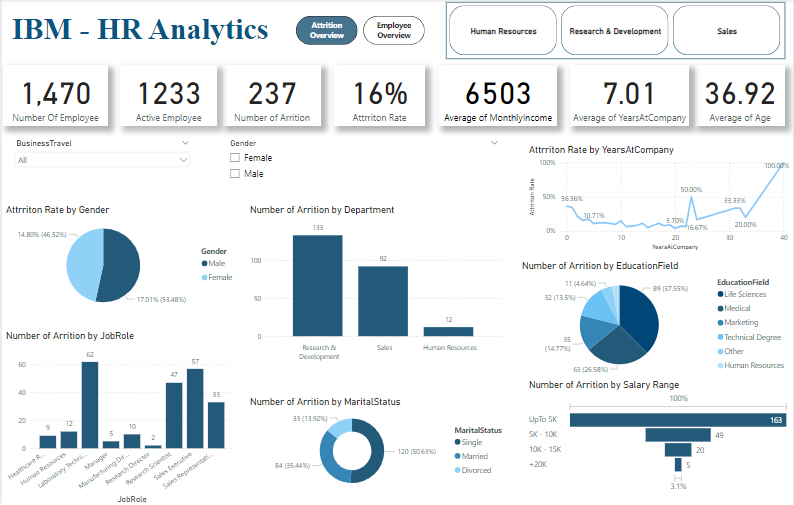

The page's visual inventory and layout, read from the dashboard file:
{"tool":"powerbi","page":{"name":"Attrition Overview","canvas":[1400,900],"ordinal":0},"visuals":[{"type":"card","fields":{"Values":["DAX Measures.Number Of Employee"]},"box":[1.8,116.9,186,108.1],"z":0},{"type":"card","fields":{"Values":["DAX Measures.Number of Arrition"]},"box":[391.5,116.9,173.6,108.1],"z":1000},{"type":"card","fields":{"Values":["Avg(Fact_EmployeeAttrition.Age)"]},"box":[1227.8,116.9,159.4,108.1],"z":2000},{"type":"card","title":"Average of MonthlyIncome","fields":{"Values":["Avg(Fact_EmployeeAttrition.MonthlyIncome)"]},"box":[774.2,116.9,209.1,108.1],"z":3000},{"type":"columnChart","fields":{"Category":["DimJobRole.JobRole"],"Y":["DAX Measures.Number of Arrition"]},"box":[1.8,586.4,412.8,313.6],"z":4000},{"type":"lineStackedColumnComboChart","fields":{"Category":["DimDepartment.Department"],"Y":["DAX Measures.Number of Arrition"]},"box":[434.1,363.2,457.1,285.2],"z":5000},{"type":"pieChart","fields":{"Category":["DimEducationField.EducationField"],"Y":["DAX Measures.Number of Arrition"]},"box":[915.9,462.4,483.7,210.8],"z":6000},{"type":"advancedSlicerVisual","fields":{"Values":["DimDepartment.Department"]},"box":[786.6,5.3,600.6,101],"z":7000},{"type":"textbox","box":[13.2,11.6,499.4,89.3],"z":8000},{"type":"lineChart","fields":{"Category":["Fact_EmployeeAttrition.YearsAtCompany"],"Y":["DAX Measures.Attrriton Rate"]},"box":[928.3,256.9,471.3,193.1],"z":9000},{"type":"donutChart","fields":{"Category":["DimEmployee.MaritalStatus"],"Y":["DAX Measures.Number of Arrition"]},"box":[434.1,703.3,471.3,175.4],"z":10000},{"type":"card","title":"Average of years","fields":{"Values":["Avg(Fact_EmployeeAttrition.YearsAtCompany)"]},"box":[1006.3,116.9,210.8,108.1],"z":11000},{"type":"card","fields":{"Values":["DAX Measures.Attrriton Rate"]},"box":[588.2,116.9,161.2,108.1],"z":12000},{"type":"funnel","fields":{"Category":["Fact_EmployeeAttrition.Salary Range"],"Y":["DAX Measures.Number of Arrition"]},"box":[928.3,673.2,471.3,205.5],"z":13000},{"type":"pageNavigator","box":[520.9,30.1,228.5,51.4],"z":14000},{"type":"pieChart","fields":{"Category":["DimEmployee.Gender"],"Y":["DAX Measures.Attrriton Rate"]},"box":[1.8,363.2,421.7,198.4],"z":15000},{"type":"slicer","fields":{"Values":["Fact_EmployeeAttrition.BusinessTravel"]},"box":[12.4,242.7,331.3,76.2],"z":16000},{"type":"slicer","fields":{"Values":["DimEmployee.Gender"]},"box":[391.5,242.7,499.6,88.6],"z":17000},{"type":"card","fields":{"Values":["DAX Measures.Active Employee"]},"box":[209.1,116.9,171.9,108.1],"z":18000}]}

Visuals, with their boxes in screenshot pixels (x1, y1, x2, y2), scaled from the page's 1400x900 canvas onto the 794x505 screenshot:
card - DAX Measures.Number Of Employee: 1, 66, 107, 126
card - DAX Measures.Number of Arrition: 222, 66, 320, 126
card - Avg(Fact_EmployeeAttrition.Age): 696, 66, 787, 126
"Average of MonthlyIncome" card: 439, 66, 558, 126
columnChart - DimJobRole.JobRole x DAX Measures.Number of Arrition: 1, 329, 235, 504
lineStackedColumnComboChart - DimDepartment.Department x DAX Measures.Number of Arrition: 246, 204, 505, 364
pieChart - DimEducationField.EducationField x DAX Measures.Number of Arrition: 519, 259, 793, 378
advancedSlicerVisual - DimDepartment.Department: 446, 3, 787, 60
textbox: 7, 7, 291, 57
lineChart - Fact_EmployeeAttrition.YearsAtCompany x DAX Measures.Attrriton Rate: 526, 144, 793, 252
donutChart - DimEmployee.MaritalStatus x DAX Measures.Number of Arrition: 246, 395, 513, 493
"Average of years" card: 571, 66, 690, 126
card - DAX Measures.Attrriton Rate: 334, 66, 425, 126
funnel - Fact_EmployeeAttrition.Salary Range x DAX Measures.Number of Arrition: 526, 378, 793, 493
pageNavigator: 295, 17, 425, 46
pieChart - DimEmployee.Gender x DAX Measures.Attrriton Rate: 1, 204, 240, 315
slicer - Fact_EmployeeAttrition.BusinessTravel: 7, 136, 195, 179
slicer - DimEmployee.Gender: 222, 136, 505, 186
card - DAX Measures.Active Employee: 119, 66, 216, 126
